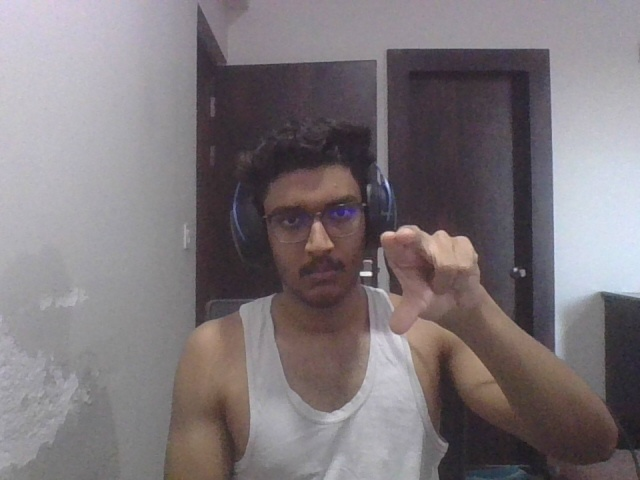No: (371, 218, 493, 332)
